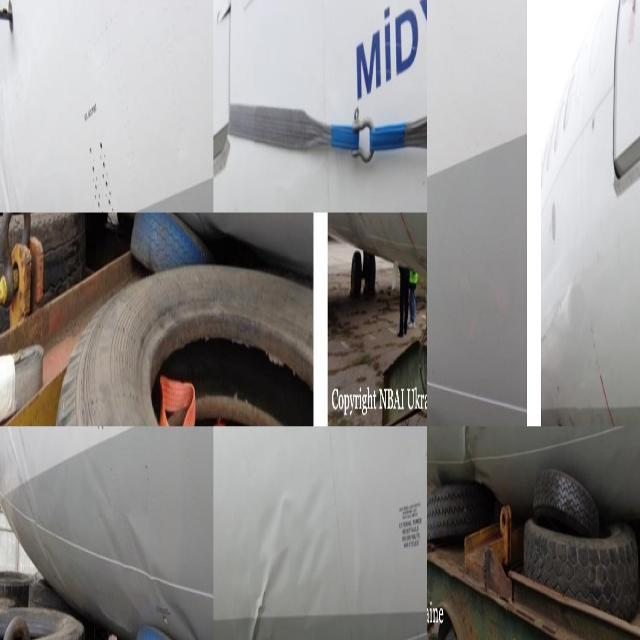dent: (82, 448, 194, 640), (245, 477, 328, 640)
